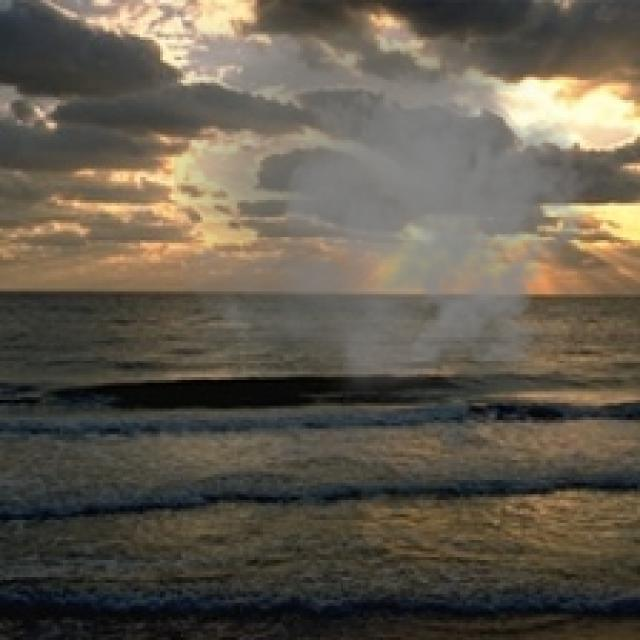smoke: (174, 17, 597, 403)
